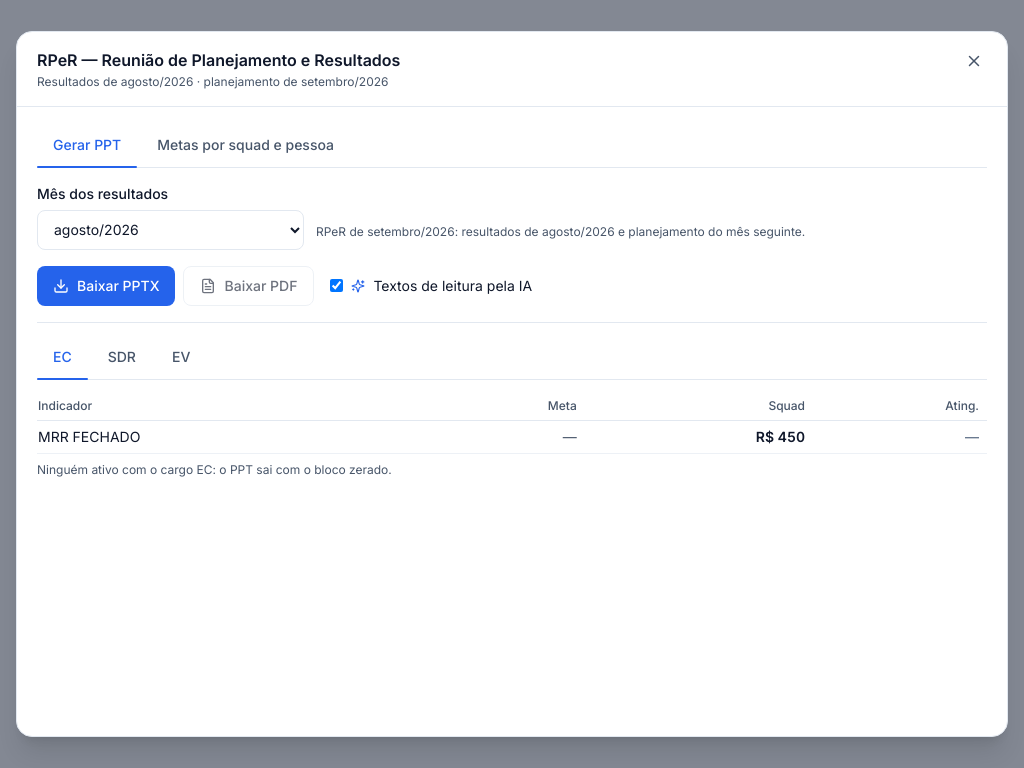
RperMonitor — Gerar › mostra a prévia do squad escolhido
Expected: the text "Resultados de agosto/2026 · planejamento de setembro/2026" is shown, x1=37 y1=74 x2=388 y2=89
Click the tab with test id "tab-SDR".
click(122, 357)  # box x1=92 y1=335 x2=152 y2=379
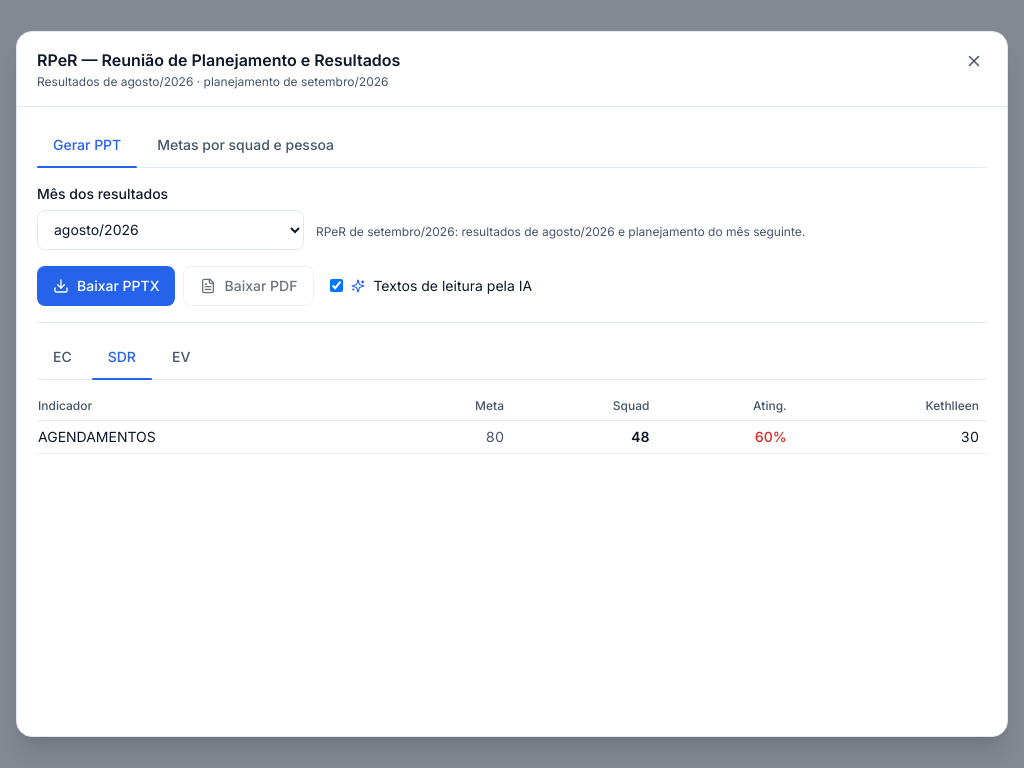
Result: the text "AGENDAMENTOS" is shown at x1=37 y1=420 x2=388 y2=453
Result: the text "48" is shown at x1=512 y1=420 x2=658 y2=453
Result: the text "60%" is shown at x1=658 y1=420 x2=795 y2=453
